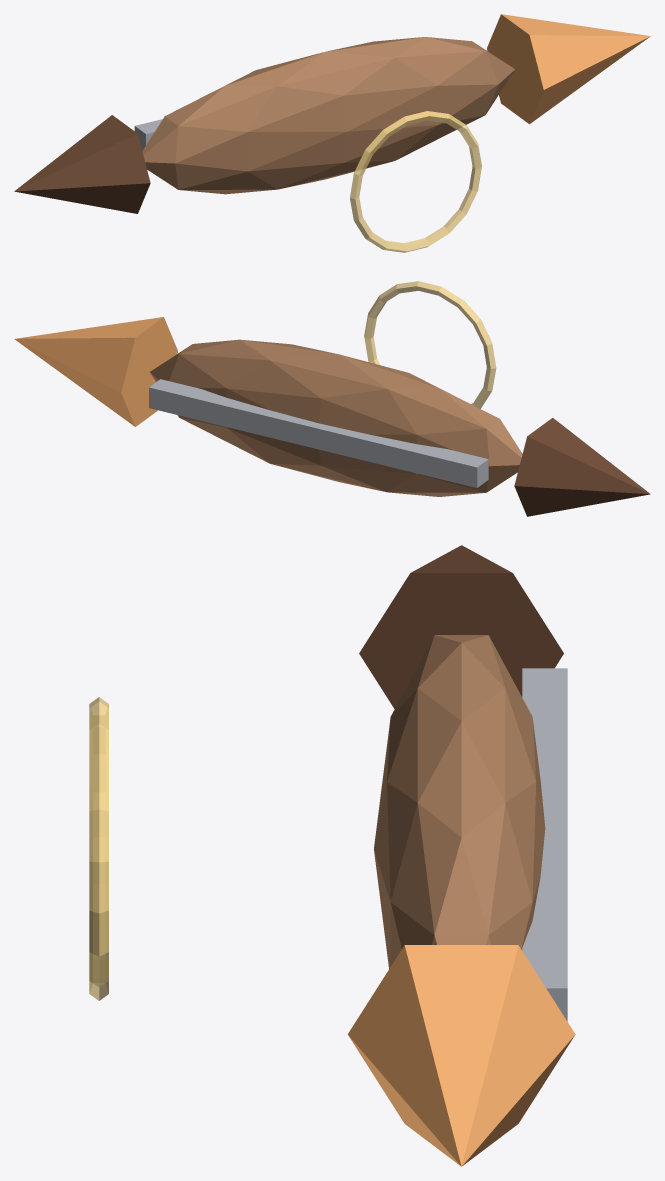
File: 05_skyship_hull.glb
The picture shows the model from 3 angles, top to bottom: view 1: azimuth 30°, elevation 25°; view 2: azimuth 150°, elevation 25°; view 3: azimuth 270°, elevation 25°; orthographic projection. The views are drawn at different scales.
Visible parts, largest first — view 1: hull_low_poly, bow_upgrade, stern_fin, size_class_ring, keel_plate; view 2: hull_low_poly, keel_plate, bow_upgrade, stern_fin, size_class_ring; view 3: hull_low_poly, bow_upgrade, stern_fin, keel_plate, size_class_ring.
Boxes of the visible parts, box(x1,y1,x2,y2) form: hull_low_poly: box(142, 37, 514, 194); bow_upgrade: box(487, 14, 650, 124); stern_fin: box(14, 115, 150, 213); size_class_ring: box(350, 111, 481, 252); keel_plate: box(134, 119, 162, 150); hull_low_poly: box(150, 339, 522, 496); keel_plate: box(149, 379, 488, 487); bow_upgrade: box(14, 317, 177, 426); stern_fin: box(514, 418, 650, 516); size_class_ring: box(364, 281, 496, 408); hull_low_poly: box(374, 635, 545, 968); bow_upgrade: box(347, 945, 575, 1166); stern_fin: box(359, 545, 563, 708); keel_plate: box(522, 668, 567, 1021); size_class_ring: box(89, 697, 108, 1000).
Bounding box in the file's own units: 5.29 × 1.08 × 1.75.
